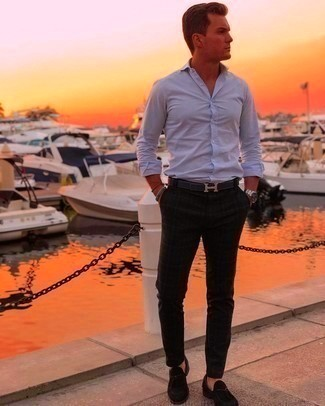F_belt: (169, 173, 242, 194)
F_dress pants: (156, 195, 250, 367)
F_shirt: (134, 57, 267, 189)
